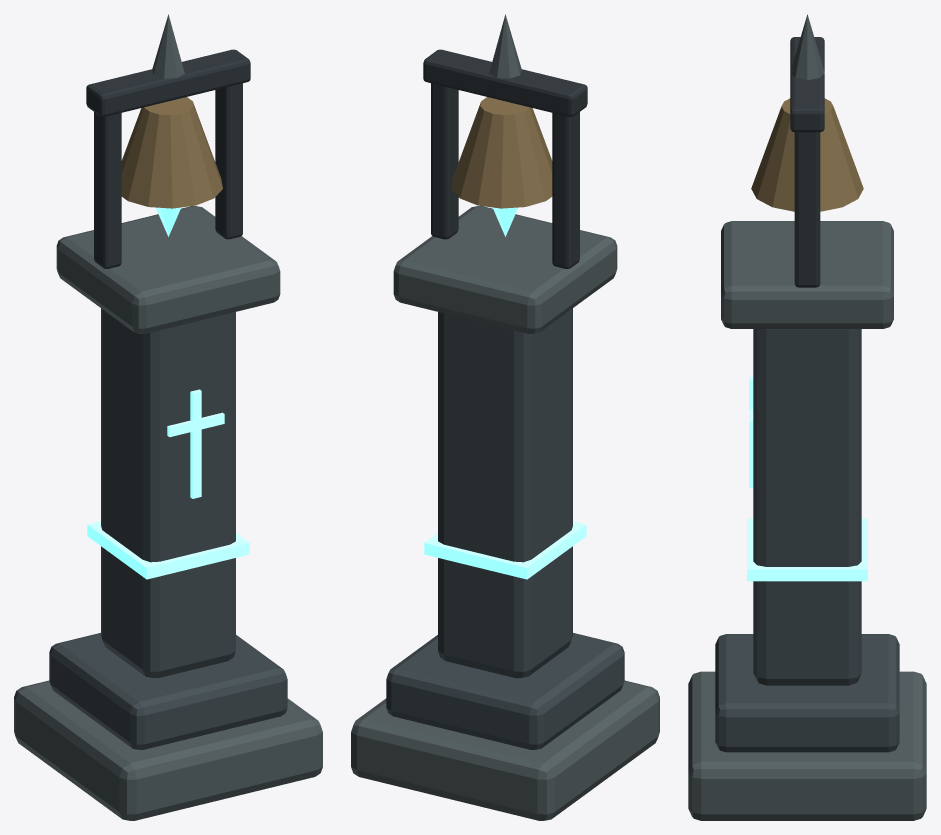
Rendered from ferry_call_post.glb.
3 views of the same model, side by side, from view 1: azimuth 30°, elevation 25°; view 2: azimuth 150°, elevation 25°; view 3: azimuth 270°, elevation 25° (orthographic).
Parts seen in each view (by area): view 1: FerryCallPost; view 2: FerryCallPost; view 3: FerryCallPost.
Part boxes in pixels (x1=…): FerryCallPost: x1=14, y1=14, x2=322, y2=820; FerryCallPost: x1=351, y1=14, x2=659, y2=820; FerryCallPost: x1=688, y1=14, x2=926, y2=820.
Bounding box in the file's own units: 1.1 × 3.88 × 1.1.
